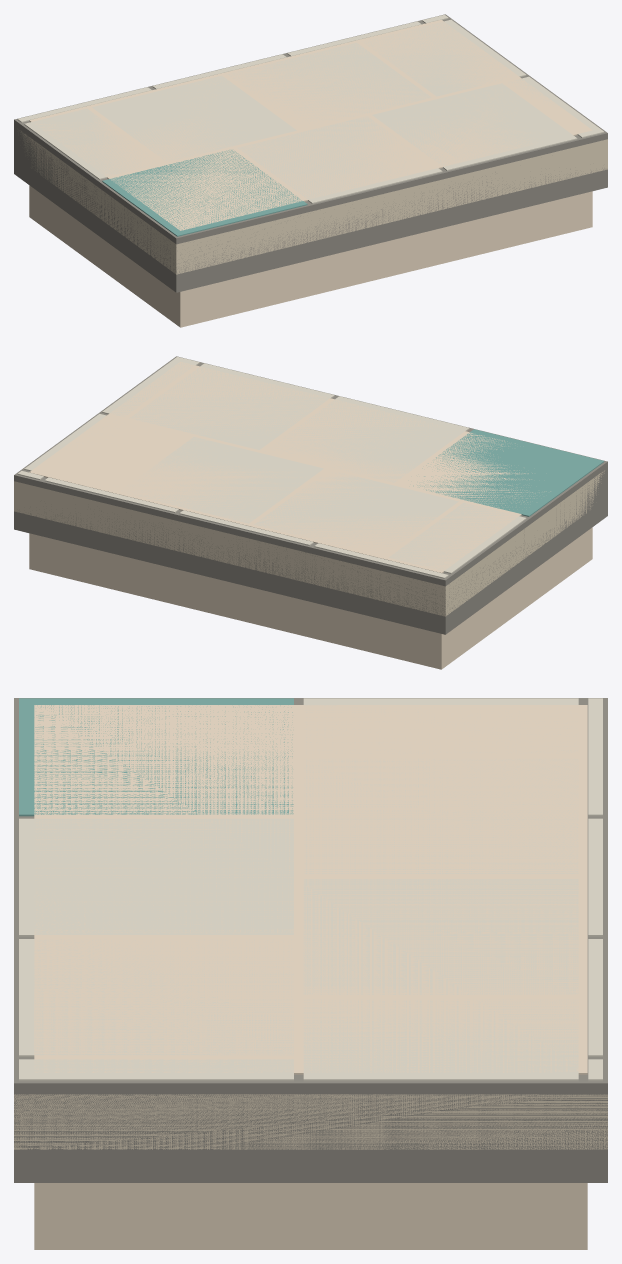
File: ClockTowerTerraceStep01.glb
3 renders of one model, top to bottom at view 1: azimuth 30°, elevation 25°; view 2: azimuth 150°, elevation 25°; view 3: azimuth 270°, elevation 25°, orthographic. The views are drawn at different scales.
Parts seen in each view (by area): view 1: ClockTowerTerraceStep01; view 2: ClockTowerTerraceStep01; view 3: ClockTowerTerraceStep01.
Part boxes in pixels (x1,y1,x2,y2): ClockTowerTerraceStep01: (14,14,607,327); ClockTowerTerraceStep01: (14,356,607,669); ClockTowerTerraceStep01: (14,698,607,1249).
Size of the model in its own units: 2.24 by 0.48 by 1.46.
